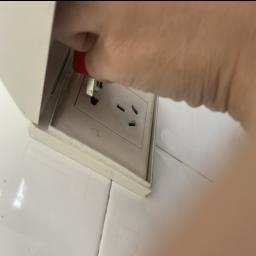outlet: (18, 48, 167, 193)
